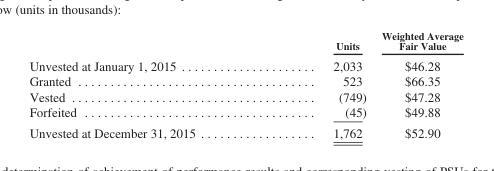table: (28, 28, 462, 139)
table column: (28, 28, 263, 139), (263, 28, 373, 139), (373, 28, 462, 139)
table column header: (28, 28, 462, 54)
table row: (28, 28, 462, 54), (28, 54, 462, 72), (28, 103, 462, 121), (28, 121, 462, 139), (28, 72, 462, 88), (28, 88, 462, 103)
